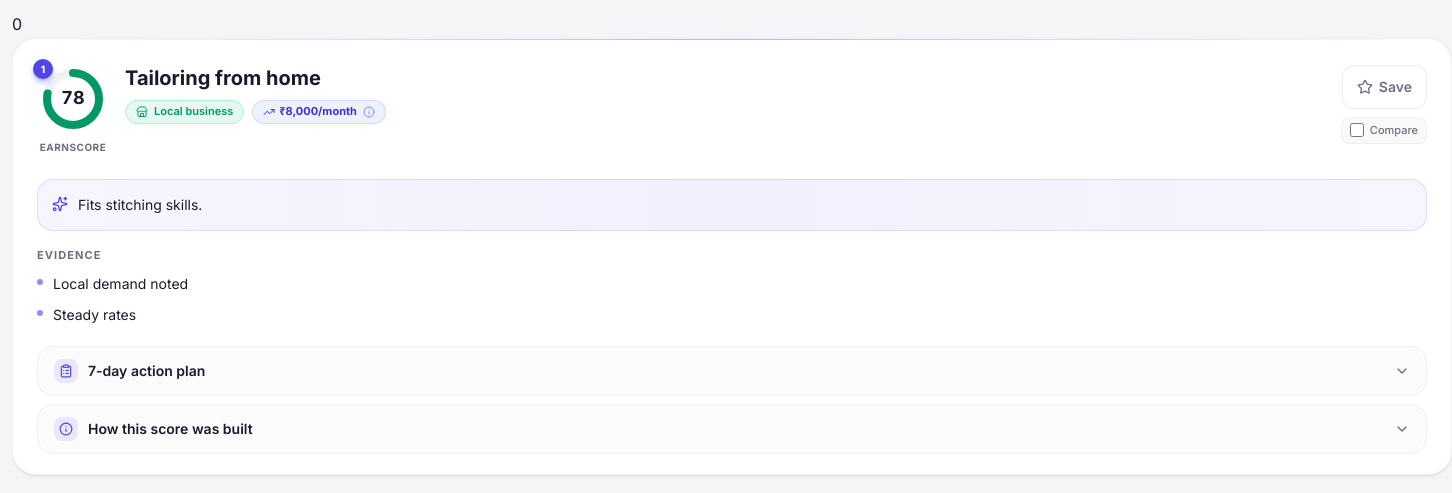
Scenario: card star buttons › stars an opportunity from its card
Click the button with aria-label "Add Tailoring from home to shortlist": (1384, 87) [1342, 65, 1427, 109]
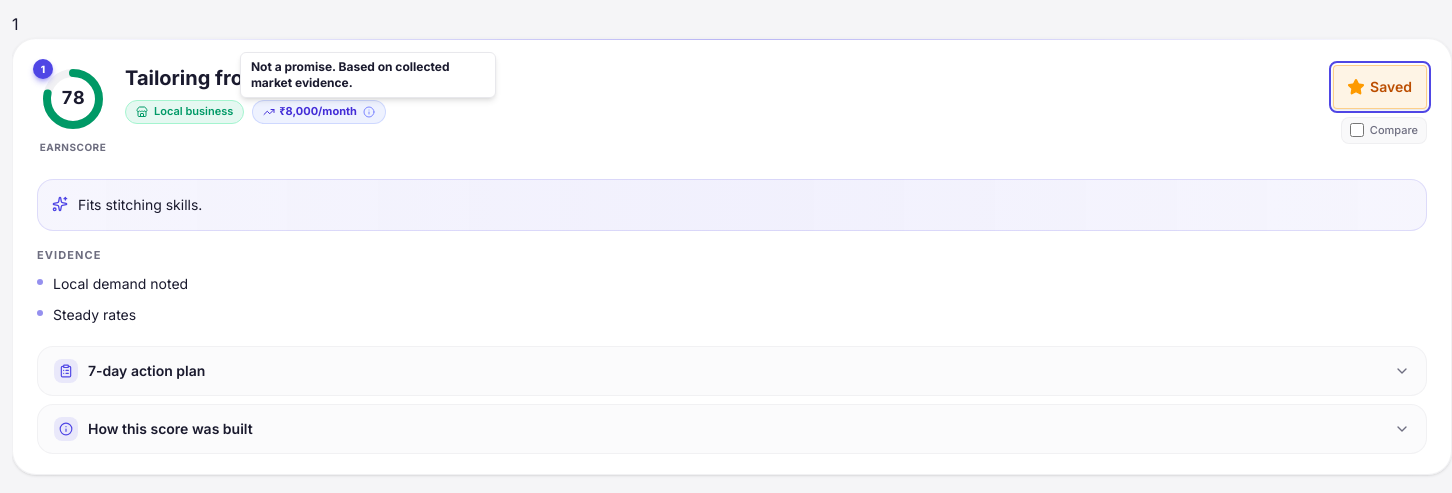
Result: the text with test id "count" reads "1" at [12, 14, 18, 34]
